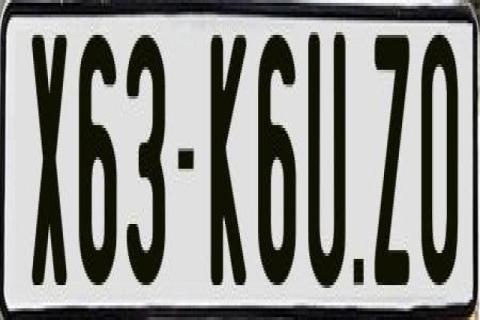0: (126, 35, 169, 303), (79, 29, 123, 279), (258, 32, 296, 285), (420, 29, 457, 285)
K: (209, 32, 248, 291)
U: (306, 32, 350, 300)
X: (32, 29, 68, 297)
Z: (374, 35, 412, 288)
